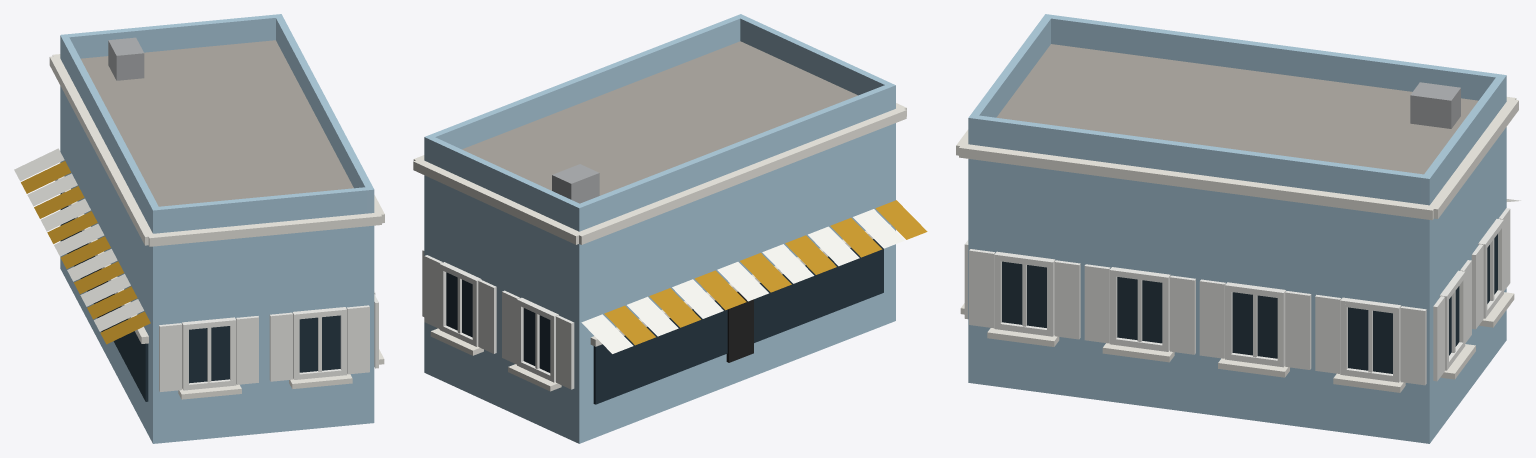
3 views of the same model, side by side, from view 1: azimuth 30°, elevation 25°; view 2: azimuth 150°, elevation 25°; view 3: azimuth 270°, elevation 25° (orthographic). The views are drawn at different scales.
Parts seen in each view (by area): view 1: b8819; view 2: b8819; view 3: b8819.
Boxes of the visible parts, x1,y1,x2,y2 form: b8819: [14, 14, 384, 443]; b8819: [413, 14, 927, 443]; b8819: [956, 14, 1520, 443].
Size of the model in its own units: 4206 by 2740 by 5243.
